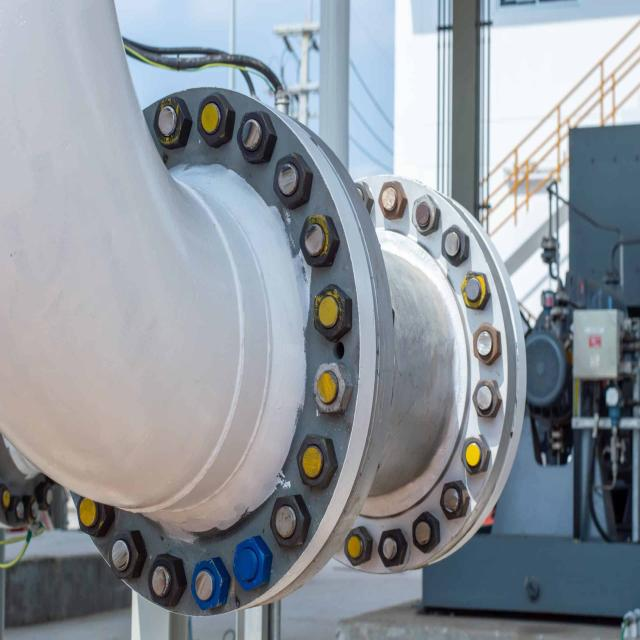blur bolt: (34, 479, 54, 512), (7, 494, 25, 529), (22, 492, 40, 524)
bolt nut: (296, 432, 338, 492), (312, 282, 352, 344), (231, 535, 273, 593), (190, 554, 232, 612), (311, 361, 354, 417), (270, 493, 312, 550), (297, 214, 341, 268), (273, 152, 313, 210), (74, 485, 116, 539), (237, 109, 277, 165), (148, 553, 188, 609), (197, 92, 236, 149), (106, 527, 147, 581), (154, 96, 193, 150), (461, 432, 492, 476), (378, 526, 408, 571), (472, 321, 502, 366), (440, 223, 470, 268), (471, 378, 503, 420), (460, 270, 492, 312), (344, 524, 374, 568), (411, 193, 441, 237), (377, 179, 408, 221), (412, 511, 441, 555), (440, 479, 470, 520)
